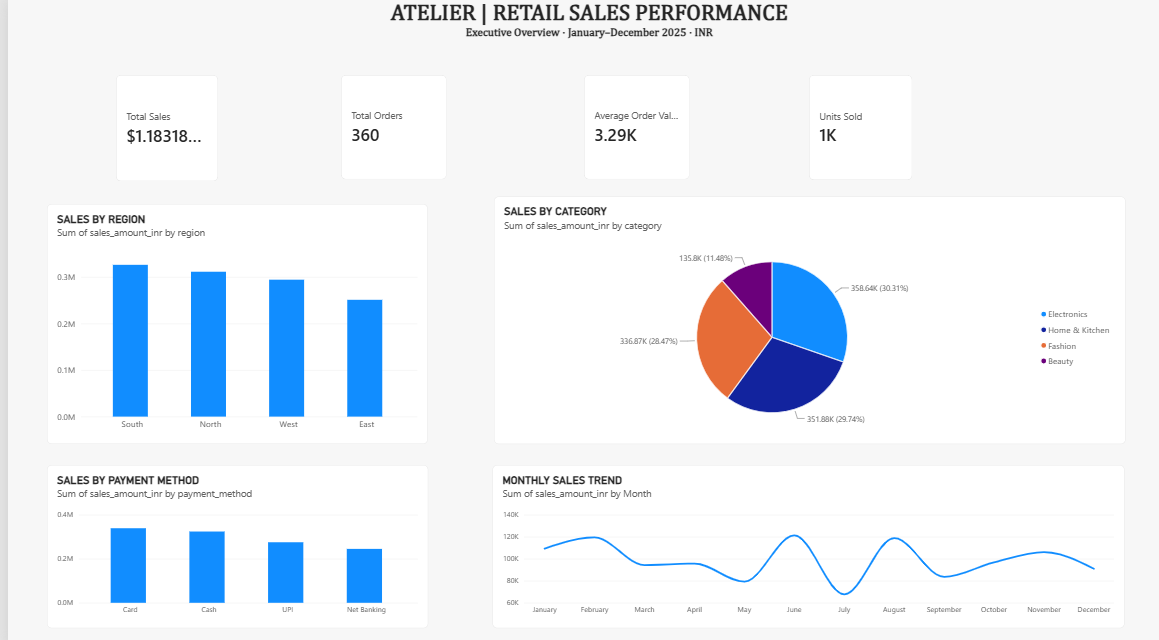

The page's visual inventory and layout, read from the dashboard file:
{"tool":"powerbi","page":{"name":"Executive Overview","canvas":[1920,1080],"ordinal":0},"visuals":[{"type":"cardVisual","fields":{"Data":["retail_sales.Total Orders"]},"box":[555,125,176,174],"z":0},{"type":"cardVisual","fields":{"Data":["retail_sales.Total Sales"]},"box":[180,125,170,177.5],"z":1000},{"type":"cardVisual","fields":{"Data":["retail_sales.Units Sold"]},"box":[1335,125,172.9,175.7],"z":2000},{"type":"cardVisual","fields":{"Data":["retail_sales.Average Order Value"]},"box":[960,125,176,174],"z":3000},{"type":"textbox","box":[99.2,0,1737.7,99.2],"z":4000},{"type":"clusteredColumnChart","title":"SALES BY REGION","fields":{"Category":["retail_sales.region"],"Y":["Sum(retail_sales.sales_amount_inr)"]},"box":[65,340,635,399.7],"z":5000},{"type":"pieChart","title":"SALES BY CATEGORY","fields":{"Category":["retail_sales.category"],"Y":["Sum(retail_sales.sales_amount_inr)"]},"box":[810,327.5,1052.5,412.5],"z":6000},{"type":"clusteredColumnChart","title":"\tSALES BY PAYMENT METHOD","fields":{"Category":["retail_sales.payment_method"],"Y":["Sum(retail_sales.sales_amount_inr)"]},"box":[65,775,635,272],"z":7000},{"type":"lineChart","title":"\tMONTHLY SALES TREND","fields":{"Category":["retail_sales.order_date.Variation.Date Hierarchy.Month"],"Y":["Sum(retail_sales.sales_amount_inr)"]},"box":[807.5,775,1053,272],"z":8000}]}

Visuals, with their boxes in screenshot pixels (x1, y1, x2, y2), scaled from the page's 1920x1080 canvas onto the 1159x640 screenshot:
cardVisual - retail_sales.Total Orders: 335, 74, 441, 177
cardVisual - retail_sales.Total Sales: 109, 74, 211, 179
cardVisual - retail_sales.Units Sold: 806, 74, 910, 178
cardVisual - retail_sales.Average Order Value: 580, 74, 686, 177
textbox: 60, 0, 1109, 59
"SALES BY REGION" clusteredColumnChart: 39, 201, 423, 438
"SALES BY CATEGORY" pieChart: 489, 194, 1124, 439
"	SALES BY PAYMENT METHOD" clusteredColumnChart: 39, 459, 423, 620
"	MONTHLY SALES TREND" lineChart: 487, 459, 1123, 620
